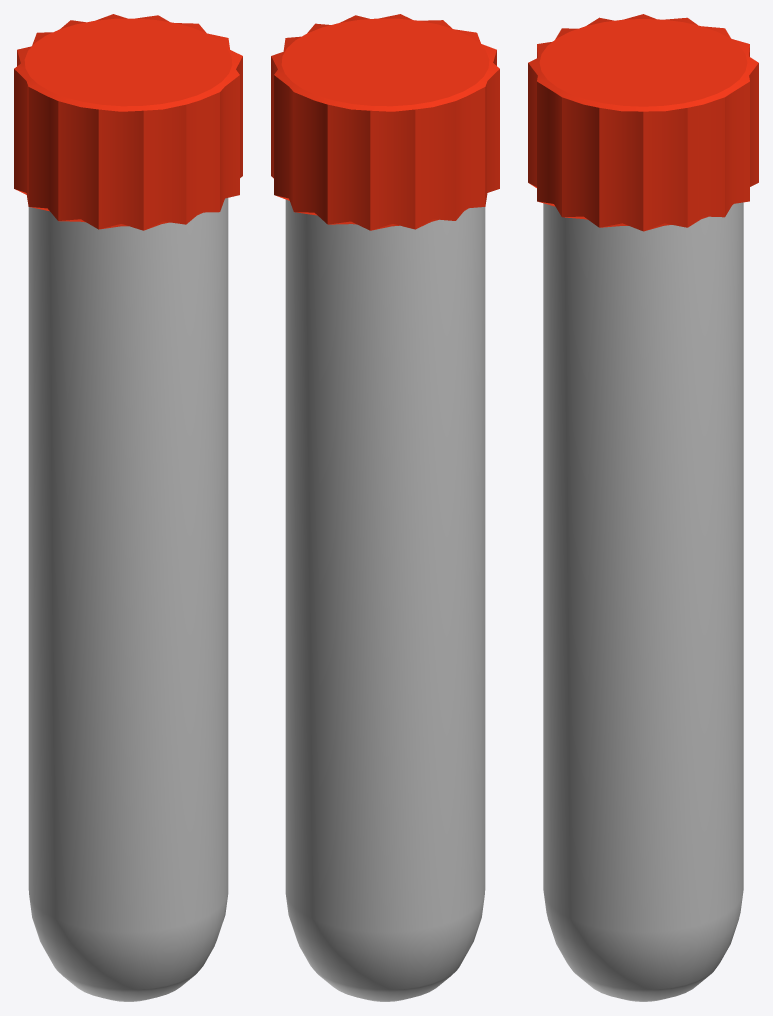
The model's file is CHEMISTRYvial_001.fbx.
3 views of the same model, side by side, from view 1: azimuth 30°, elevation 25°; view 2: azimuth 150°, elevation 25°; view 3: azimuth 270°, elevation 25° (orthographic).
Parts seen in each view (by area): view 1: Cylinder.063, Cylinder.065; view 2: Cylinder.063, Cylinder.065; view 3: Cylinder.063, Cylinder.065.
Part boxes in pixels (box(x1,y1,x2,y2)): Cylinder.063: box(28, 198, 228, 1001); Cylinder.065: box(14, 14, 242, 230); Cylinder.063: box(285, 199, 485, 1001); Cylinder.065: box(271, 14, 499, 230); Cylinder.063: box(543, 202, 743, 1001); Cylinder.065: box(528, 14, 758, 231).
Bounding box in the file's own units: 1.21 × 5.36 × 1.21.
Materials: 2 (1 with a texture image).
